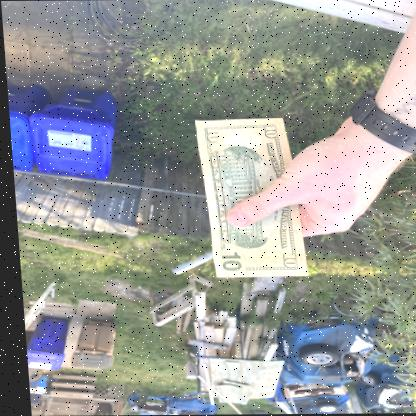ten-back: (192, 118, 303, 276)
